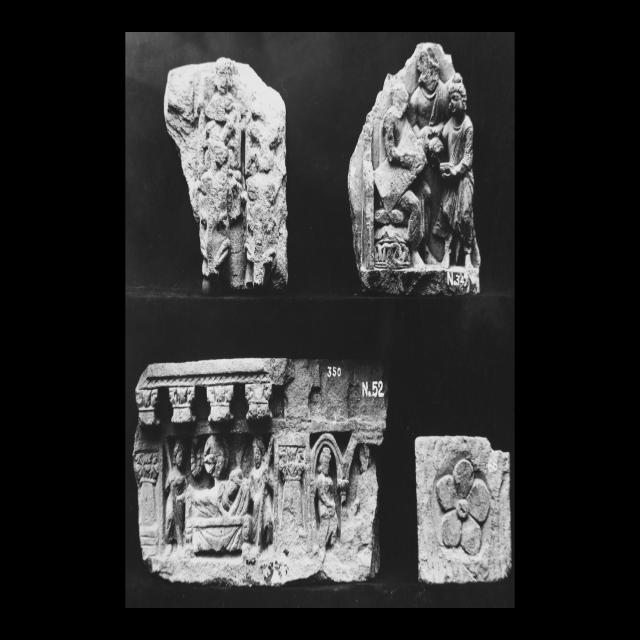buddha-sleeping: (190, 467, 250, 518)
buddha-standing: (435, 73, 480, 269)
